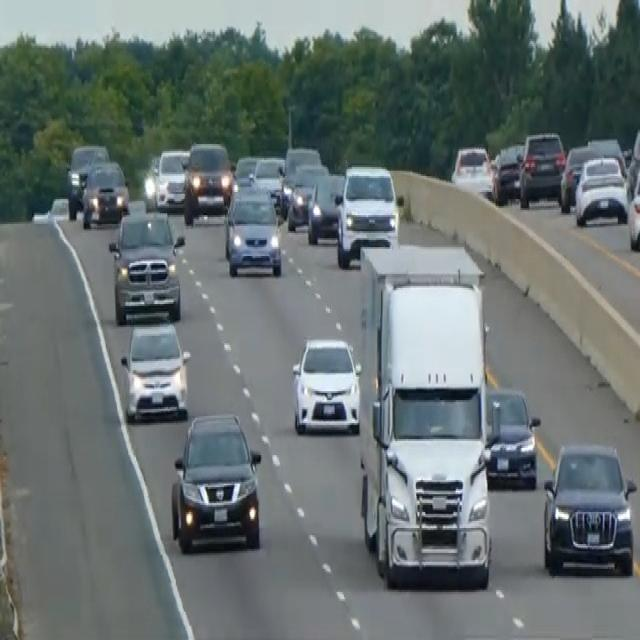car: (169, 409, 262, 553), (541, 439, 636, 576), (108, 206, 185, 324), (119, 317, 190, 423), (290, 334, 361, 436), (334, 160, 399, 267), (484, 386, 540, 489), (223, 185, 282, 277), (183, 138, 233, 220), (574, 153, 628, 226), (518, 128, 566, 206), (81, 158, 129, 228), (65, 141, 109, 215), (286, 162, 328, 231), (279, 144, 321, 212), (559, 142, 600, 210), (306, 172, 344, 245), (451, 142, 494, 199), (154, 146, 189, 210), (491, 142, 524, 203), (252, 155, 285, 208), (627, 162, 639, 250), (232, 153, 258, 192), (142, 153, 160, 208)
lorry: (355, 240, 495, 590)
